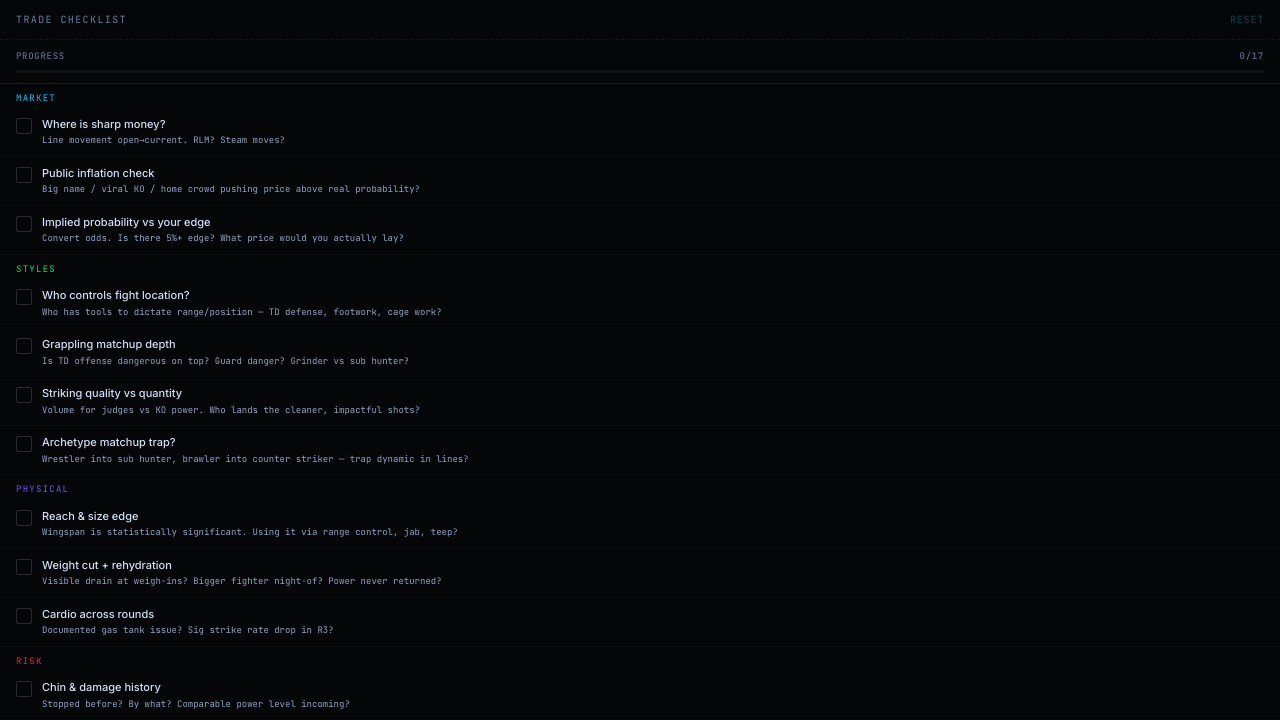
Test: ChecklistPanel › toggles an item checked and updates progress
The width and height of the screenshot is (1280, 720).
Click the checkbox "Where is sharp money?".
click(640, 132)  # box [0,108,1279,157]
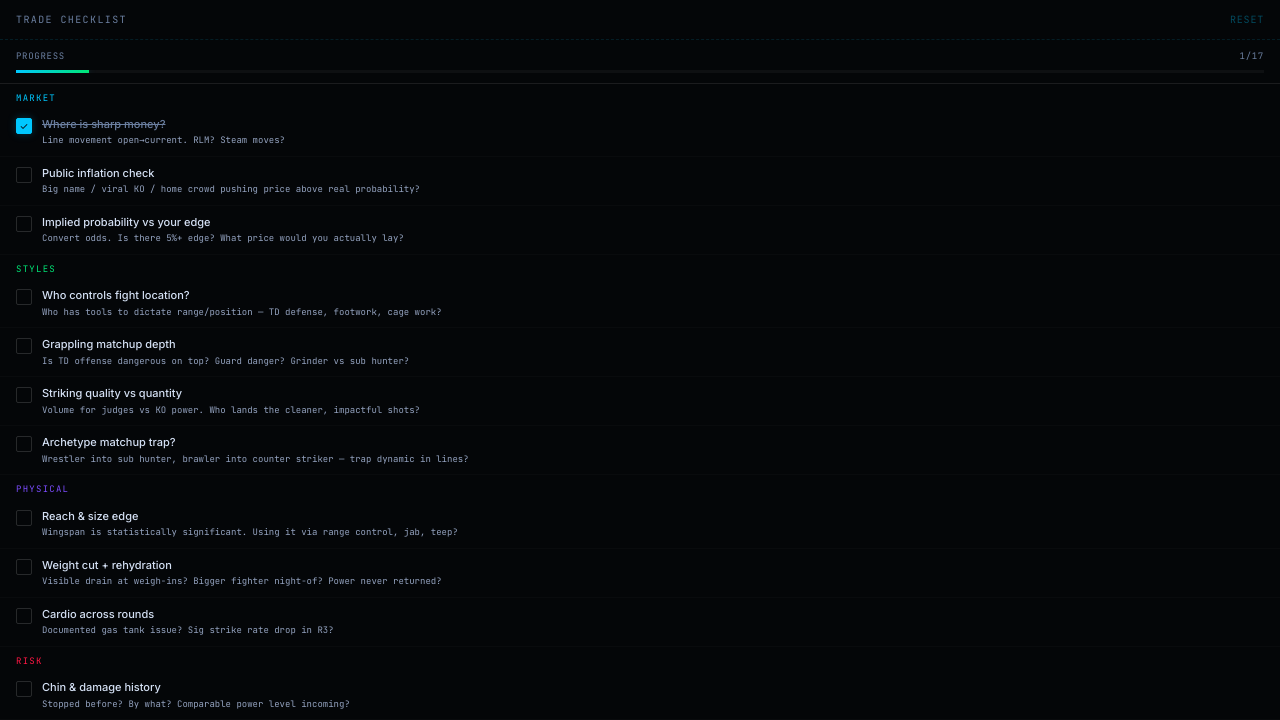
Result: the text "1/17" is shown at [1240,50,1264,64]
